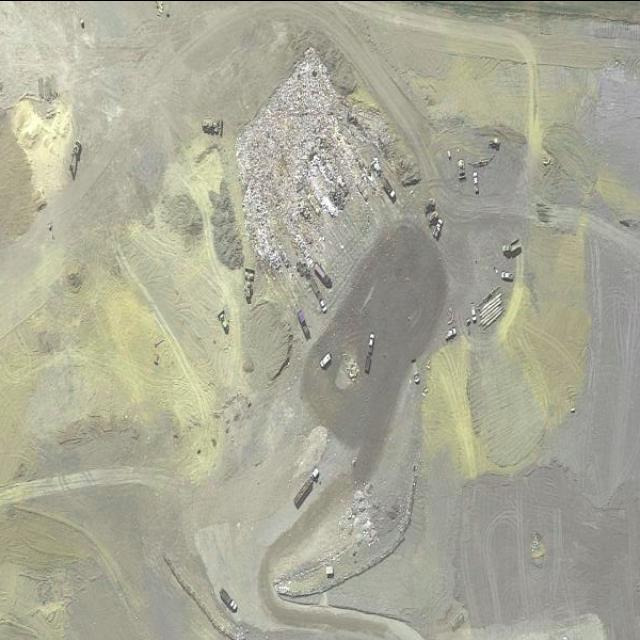dump_site: (210, 42, 389, 304)
